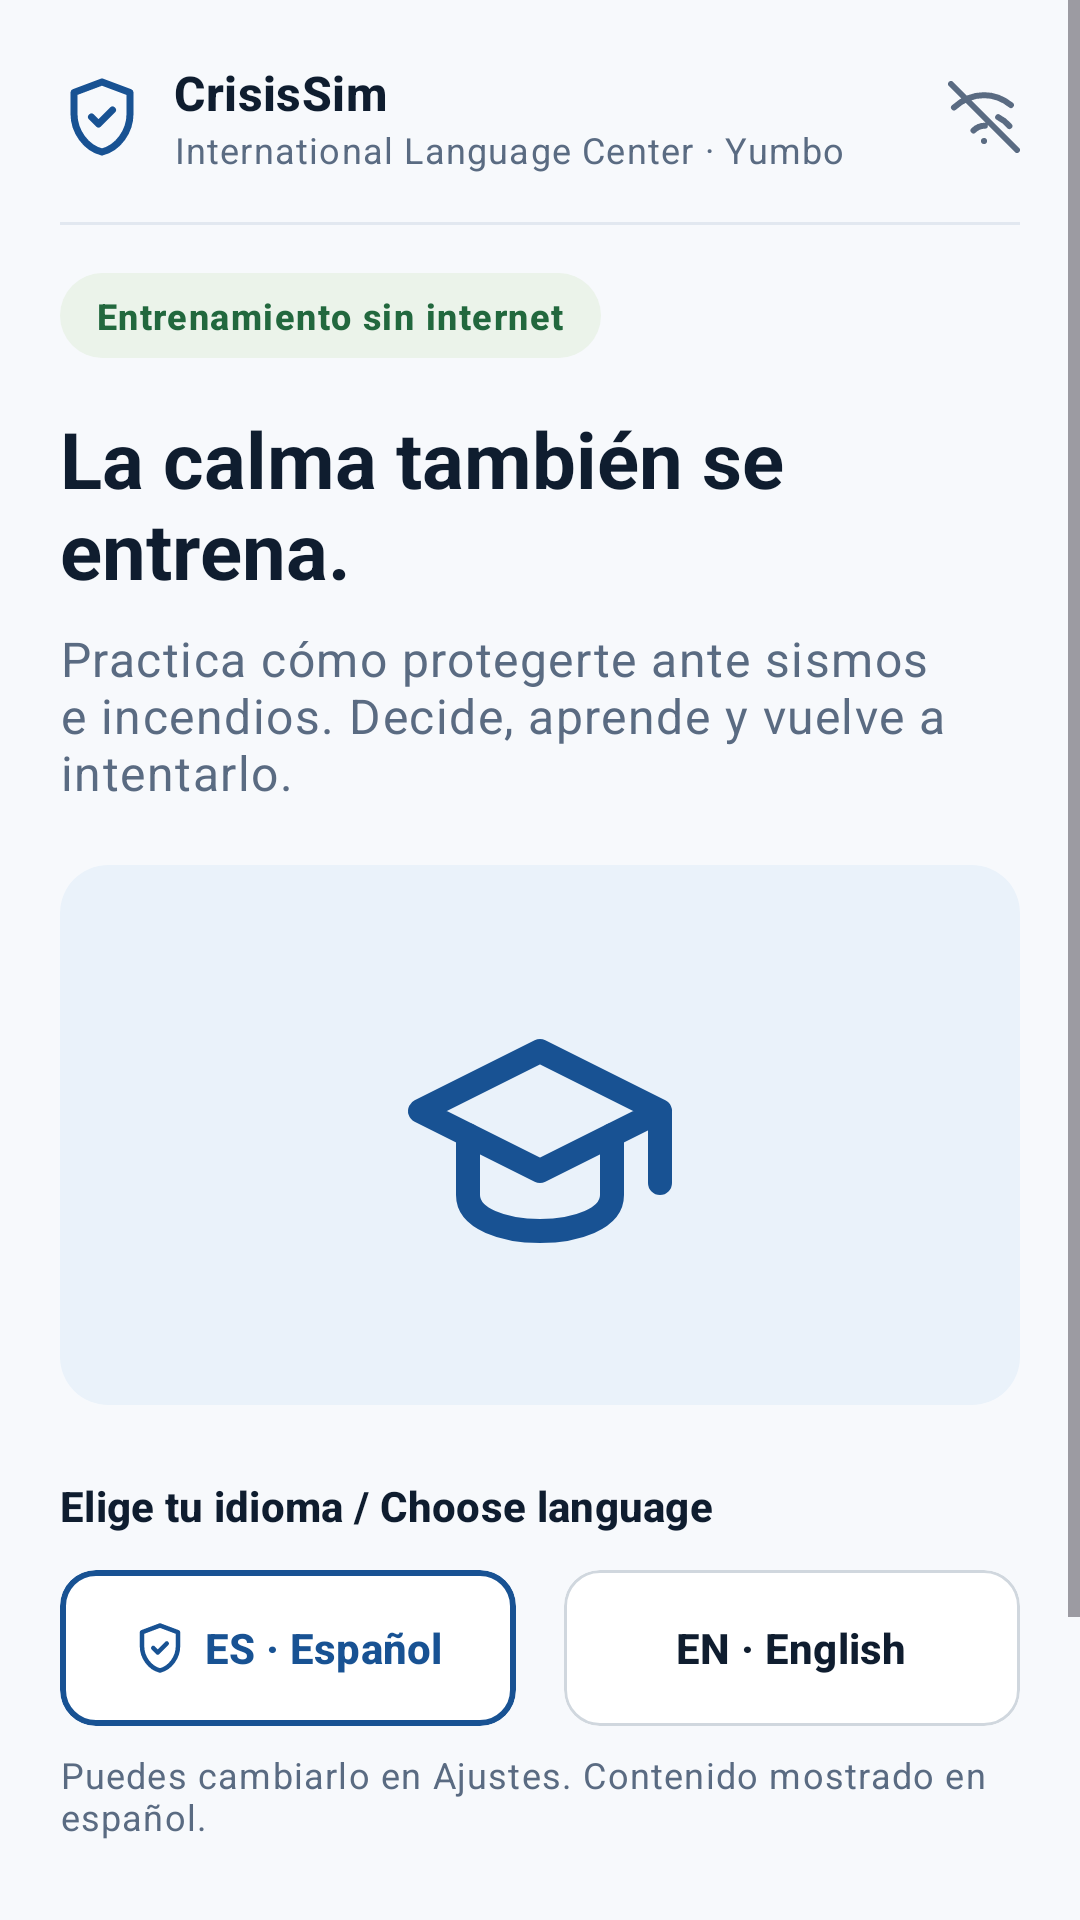

Icons on this 1080 x 1920 Android screen, each with its box as region(x1, y1, x2, y2):
Entrenamiento sin internet: region(948, 81, 1020, 153)
shield: region(70, 78, 134, 156), region(139, 1623, 181, 1673)
